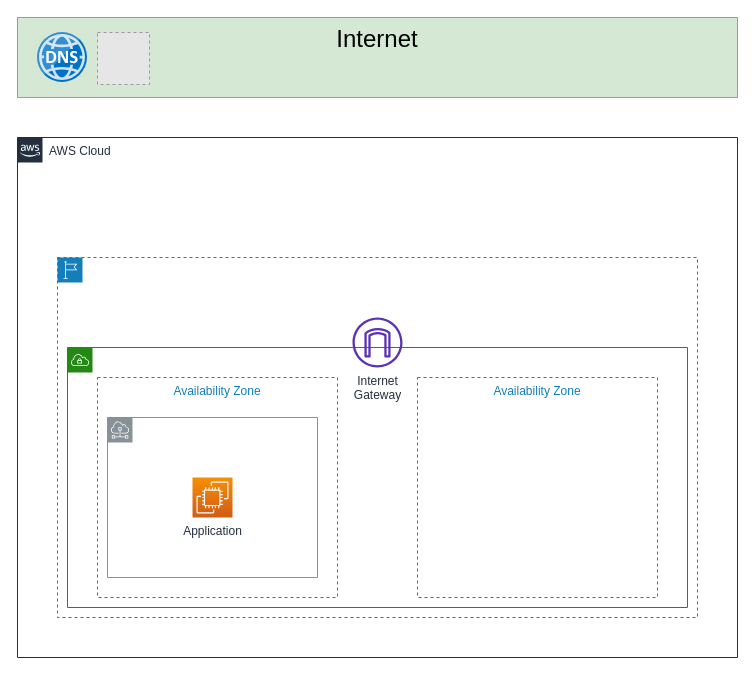
Image size: 755x675. Some labels were removed from this diagram. Grey dashed boxes stand in for pictures. The box of each missing label's shape, as (x1, y1, x2, y2) in pixels:
Region: (56, 256, 698, 618)
Subnet: (106, 416, 318, 578)
VPC: (66, 346, 688, 608)
